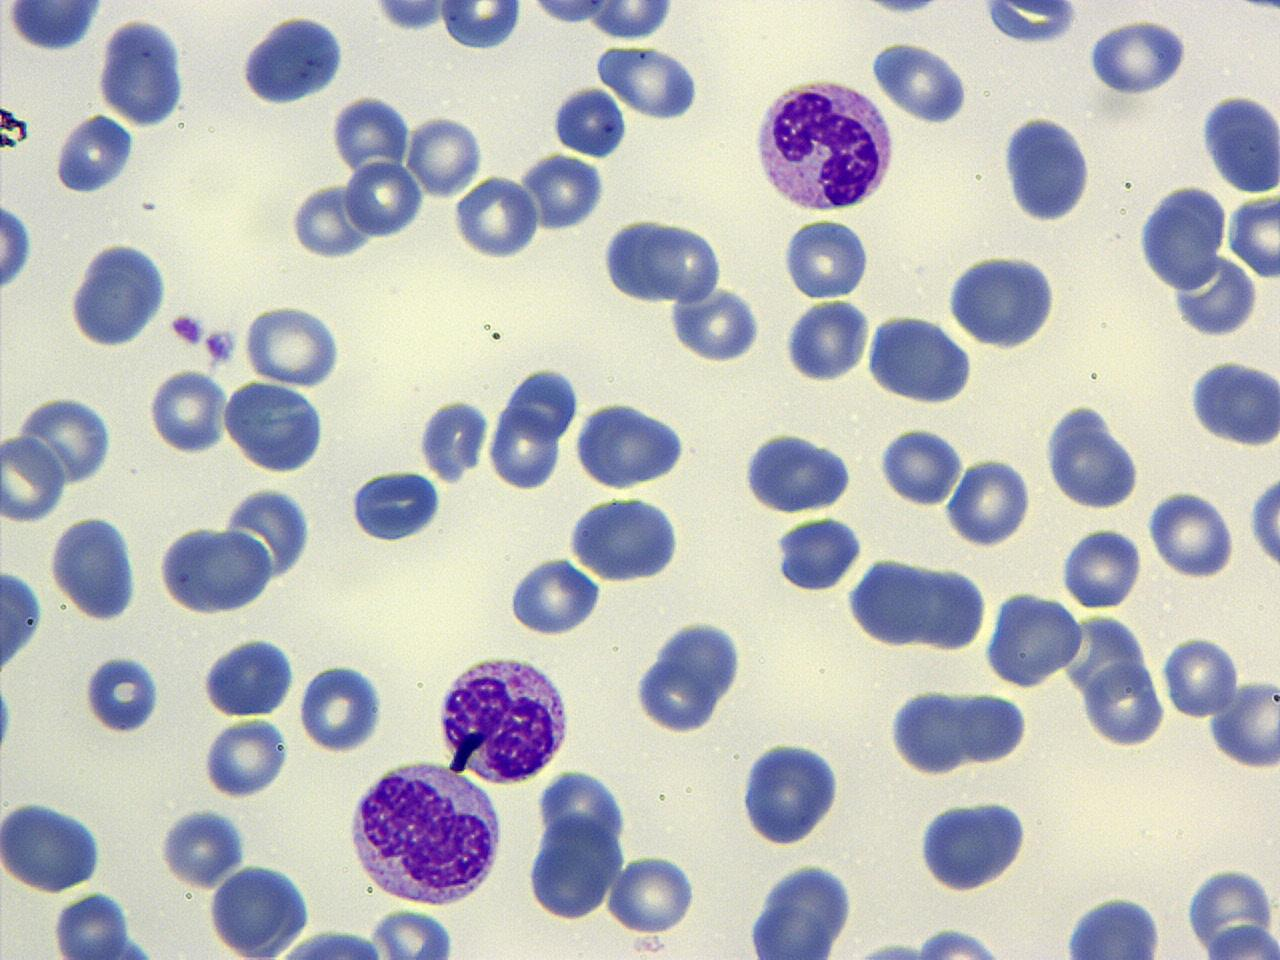Platelets: (518, 153, 609, 232), (203, 325, 239, 367), (168, 311, 206, 347), (1234, 0, 1280, 17)
RBC: (524, 766, 636, 924), (1041, 395, 1149, 514), (742, 856, 861, 959), (63, 239, 173, 350), (738, 736, 846, 848), (944, 250, 1061, 352), (914, 794, 1032, 894), (156, 520, 274, 616), (95, 13, 190, 131), (567, 490, 687, 584), (237, 9, 349, 109), (204, 860, 317, 958), (862, 311, 976, 408), (0, 796, 110, 896), (998, 111, 1094, 226), (572, 396, 686, 492), (218, 376, 327, 476), (47, 510, 143, 622), (738, 426, 856, 514), (983, 592, 1087, 686), (240, 301, 343, 386), (1085, 14, 1189, 99), (598, 215, 694, 306), (1199, 88, 1279, 197), (871, 37, 968, 126), (198, 635, 299, 719), (1187, 356, 1279, 449), (1145, 487, 1237, 578), (1081, 656, 1169, 750), (600, 43, 702, 123), (296, 662, 384, 754), (845, 556, 931, 649), (666, 284, 765, 366), (506, 554, 601, 638), (944, 456, 1032, 546), (200, 714, 289, 801), (887, 685, 971, 777), (452, 172, 540, 259), (781, 215, 870, 302), (780, 298, 869, 384), (606, 851, 696, 935), (516, 149, 606, 233), (348, 466, 446, 542), (772, 514, 864, 595), (1059, 522, 1143, 610), (486, 397, 562, 493), (1060, 892, 1168, 960), (156, 808, 246, 888), (147, 366, 228, 456), (1160, 632, 1240, 722), (1208, 674, 1280, 772), (52, 111, 135, 196), (632, 653, 718, 735), (876, 428, 964, 507), (912, 564, 989, 654), (80, 652, 162, 736), (405, 112, 484, 200), (342, 155, 423, 239), (288, 179, 370, 261), (416, 394, 492, 482), (329, 94, 412, 172), (0, 428, 67, 524), (241, 926, 418, 960), (551, 85, 629, 160), (51, 888, 133, 960), (957, 690, 1028, 766), (1, 564, 47, 679), (3, 1, 101, 54), (1226, 187, 1278, 280), (436, 0, 526, 52), (368, 907, 456, 959), (980, 0, 1078, 46), (584, 0, 676, 41), (908, 926, 1016, 960), (1249, 468, 1279, 576), (364, 0, 457, 32), (1, 197, 31, 295), (1200, 923, 1280, 960), (522, 0, 614, 27), (856, 1, 954, 20), (0, 685, 17, 753)
WBC: (344, 755, 508, 910), (748, 72, 898, 216), (433, 648, 577, 786)
